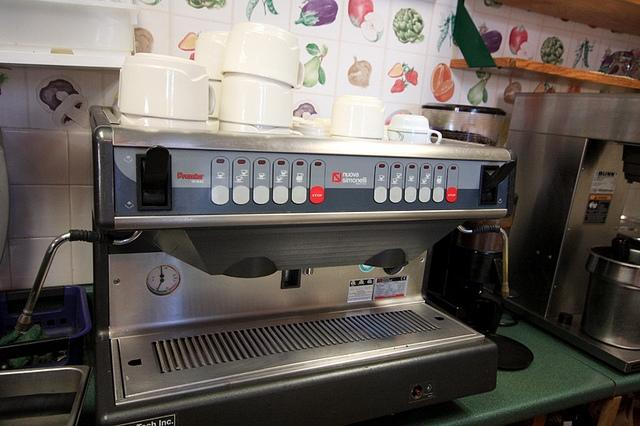eggplant: (294, 0, 338, 26), (482, 30, 502, 53), (293, 102, 317, 118)
